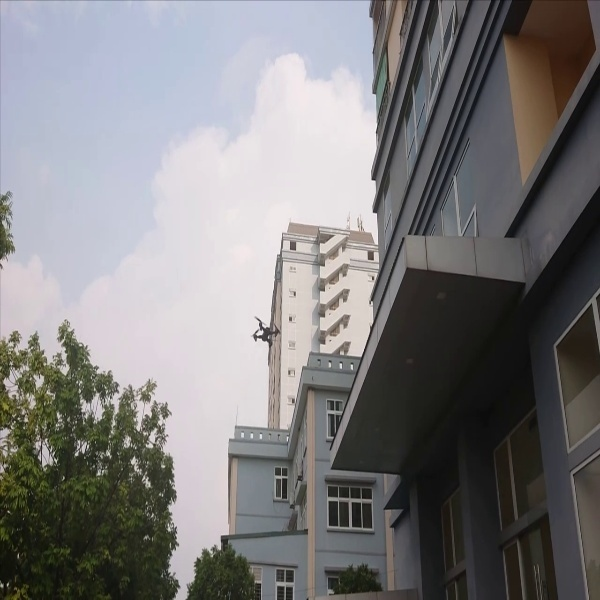drone: (240, 313, 286, 348)
